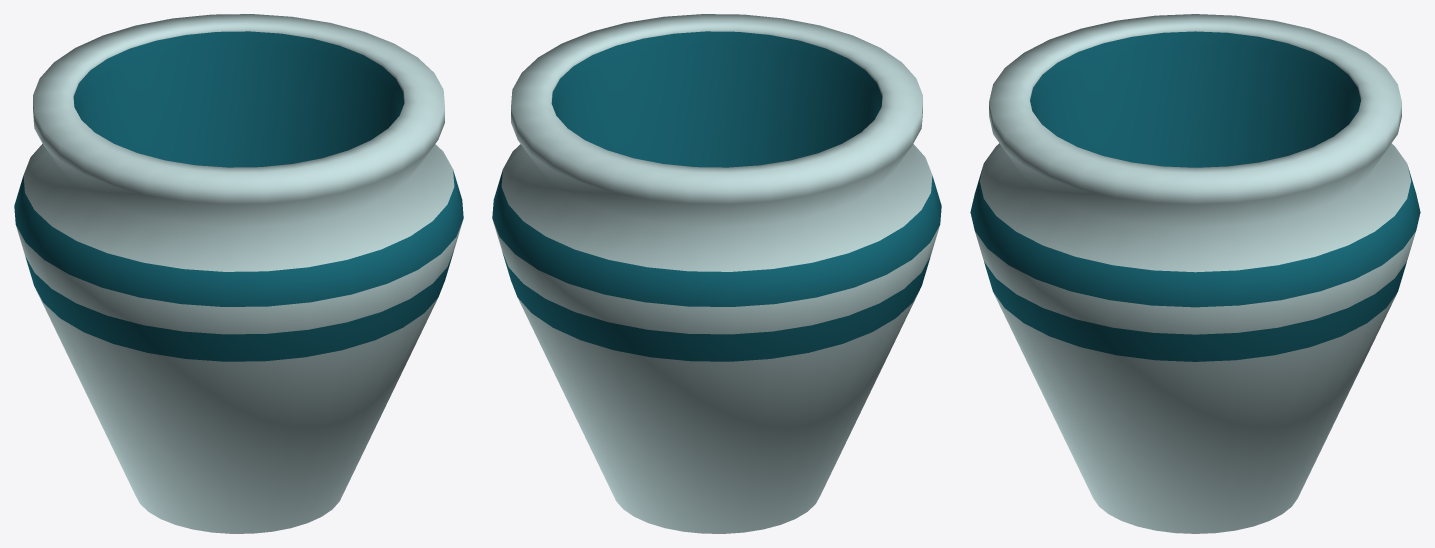
Rendered from pot.fbx.
3 renders of one model, left to right at view 1: azimuth 30°, elevation 25°; view 2: azimuth 150°, elevation 25°; view 3: azimuth 270°, elevation 25°, orthographic.
Parts seen in each view (by area): view 1: Plank2.001; view 2: Plank2.001; view 3: Plank2.001.
Boxes of the visible parts, x1=… form: Plank2.001: x1=14, y1=14, x2=463, y2=533; Plank2.001: x1=492, y1=14, x2=941, y2=533; Plank2.001: x1=970, y1=14, x2=1420, y2=533.
Bounding box in the file's own units: 97.6 × 93.87 × 97.6.
